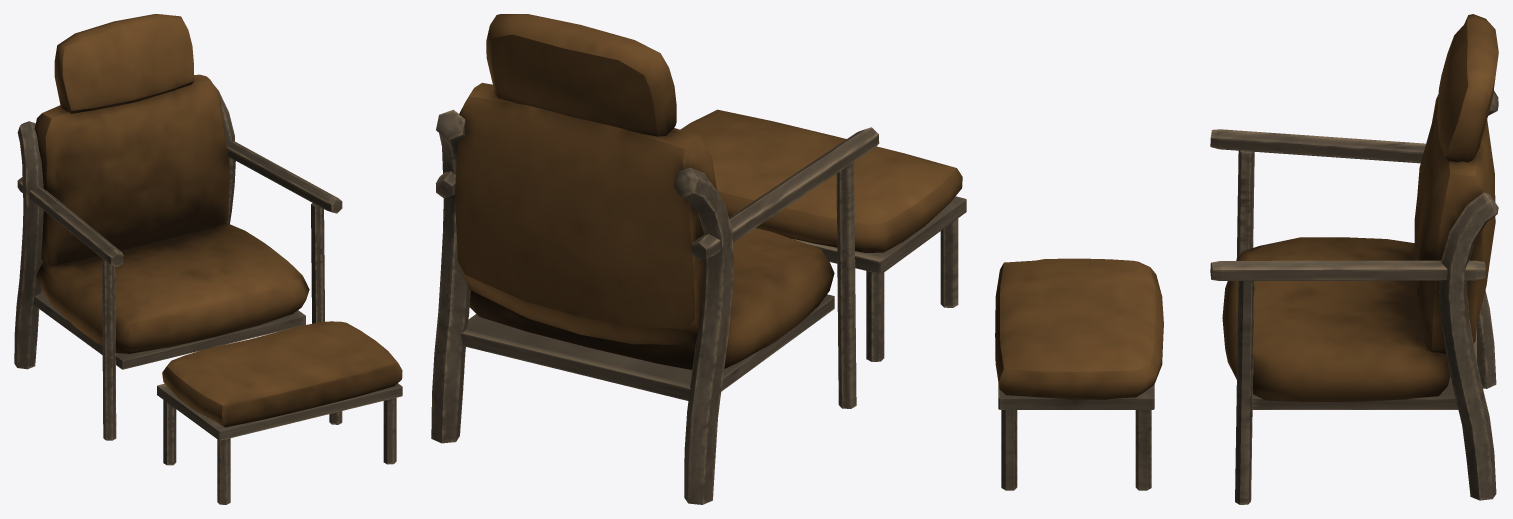
File: Dad's armchair.fbx
3 renders of one model, left to right at view 1: azimuth 30°, elevation 25°; view 2: azimuth 150°, elevation 25°; view 3: azimuth 270°, elevation 25°, orthographic. The views are drawn at different scales.
Parts seen in each view (by area): view 1: Cube.007; view 2: Cube.007; view 3: Cube.007.
Part boxes in pixels (box(x1,y1,x2,y2)): Cube.007: box(14, 14, 402, 504); Cube.007: box(431, 14, 966, 504); Cube.007: box(995, 14, 1498, 504).
Size of the model in its own units: 96.05 by 128 by 146.
